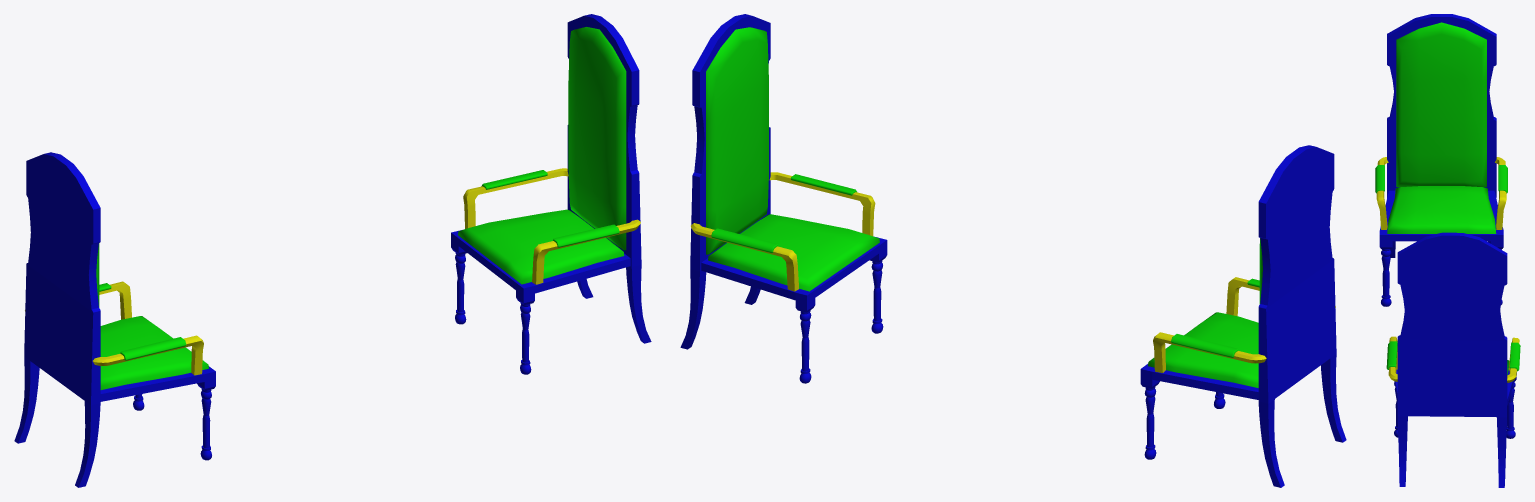
The model's file is SM_DeskChairs_001 1.fbx.
3 renders of one model, left to right at view 1: azimuth 30°, elevation 25°; view 2: azimuth 150°, elevation 25°; view 3: azimuth 270°, elevation 25°, orthographic. The views are drawn at different scales.
Parts seen in each view (by area): view 1: SM_DeskChairs_001; view 2: SM_DeskChairs_001; view 3: SM_DeskChairs_001.
Part boxes in pixels (left/top/right/bottom): SM_DeskChairs_001: left=14, top=14, right=651, bottom=487; SM_DeskChairs_001: left=680, top=14, right=1346, bottom=487; SM_DeskChairs_001: left=1375, top=14, right=1520, bottom=487.
Bounding box in the file's own units: 278 × 137 × 73.21.
